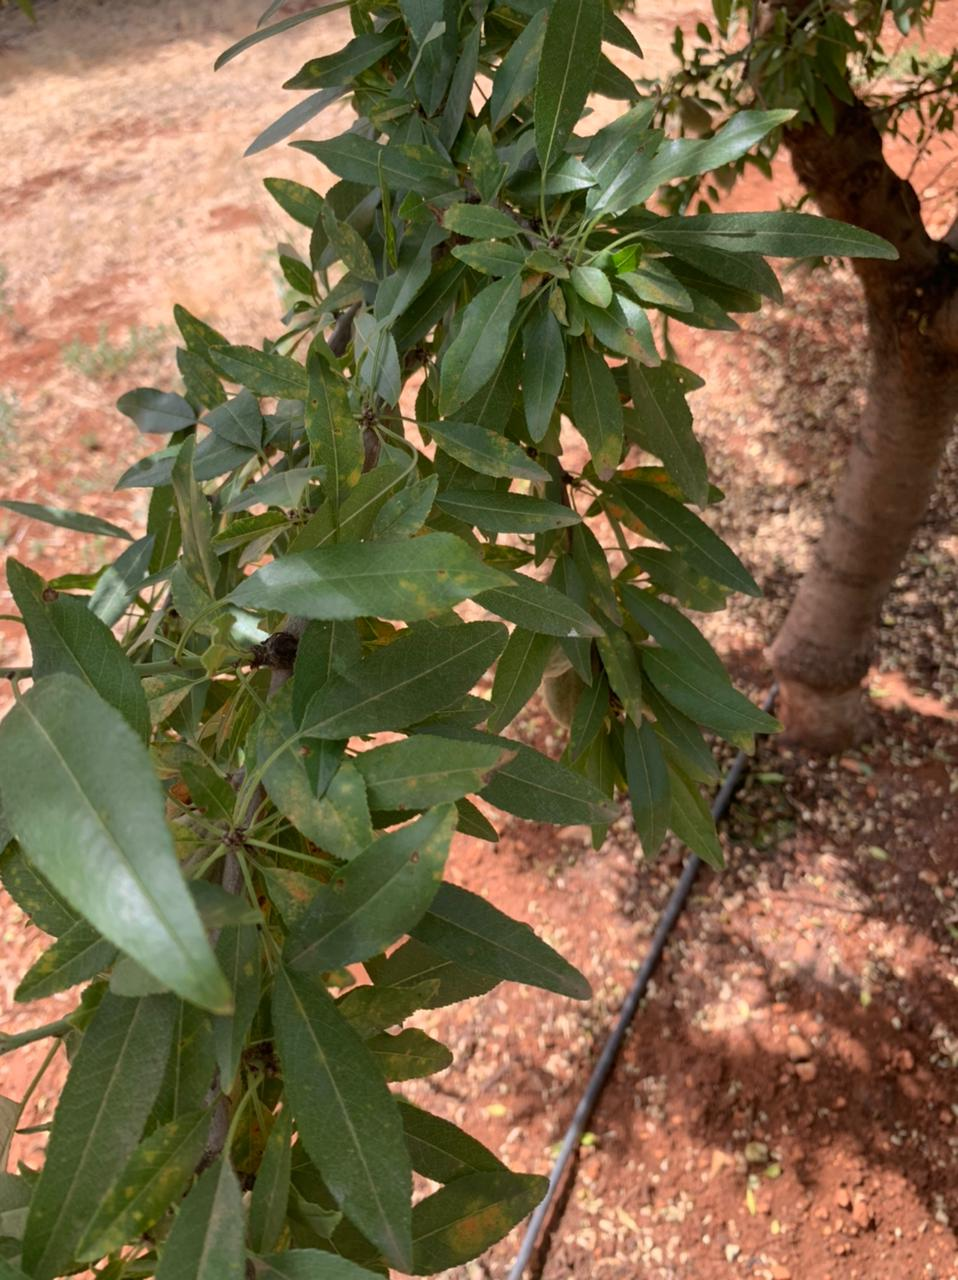polystigma: (225, 529, 520, 625), (405, 1167, 554, 1275), (294, 344, 366, 499), (567, 337, 625, 487)
